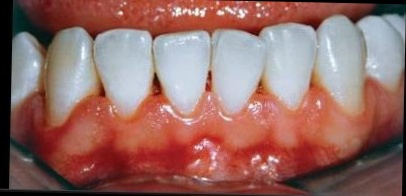Gingivitis: (84, 130, 334, 183)
